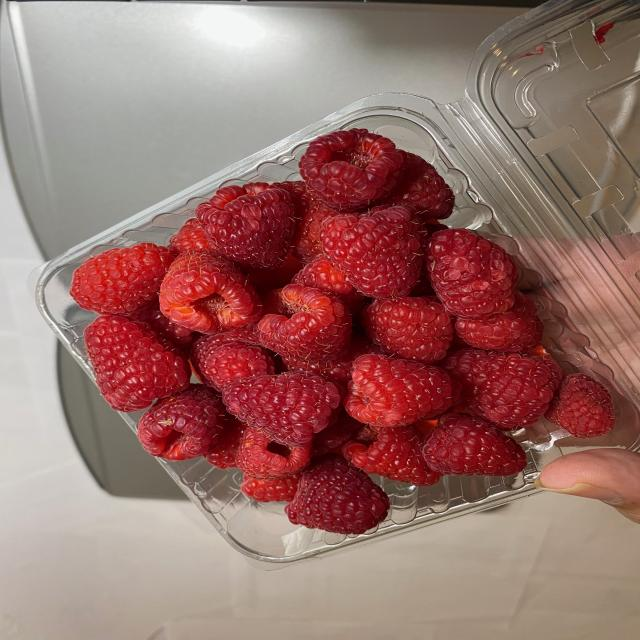raspberries: (77, 176, 568, 499)
